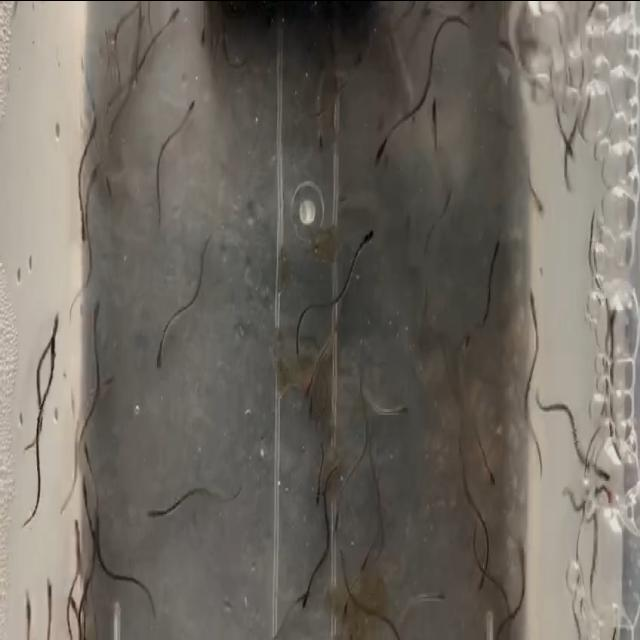active_glass_eel: (88, 278, 108, 328), (78, 472, 94, 532), (557, 121, 577, 166), (40, 564, 57, 616), (95, 362, 117, 402), (44, 328, 63, 373), (369, 134, 389, 176), (46, 304, 66, 344), (20, 580, 38, 624), (82, 159, 101, 199), (528, 191, 548, 229), (604, 300, 623, 340), (78, 433, 96, 475), (479, 455, 498, 494), (604, 484, 624, 520), (178, 94, 196, 130), (590, 463, 615, 487), (358, 220, 376, 253), (66, 587, 82, 624), (154, 334, 168, 376), (392, 396, 412, 424), (74, 214, 88, 250), (297, 585, 312, 618), (144, 504, 164, 528), (104, 168, 116, 208), (314, 125, 329, 156), (72, 514, 82, 560), (428, 93, 440, 131), (490, 232, 504, 264), (460, 325, 474, 357), (516, 538, 530, 570), (430, 584, 450, 606), (526, 280, 536, 324), (311, 482, 325, 512), (479, 559, 491, 594), (330, 510, 342, 542), (301, 372, 315, 397), (163, 2, 179, 22), (304, 392, 315, 420), (198, 16, 208, 46), (341, 598, 351, 624)
